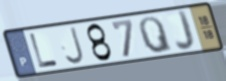7: (110, 17, 136, 59)
8: (86, 23, 113, 63)
J: (174, 9, 197, 53), (64, 25, 87, 66)
L: (28, 32, 60, 70)
Q: (137, 15, 175, 55)
